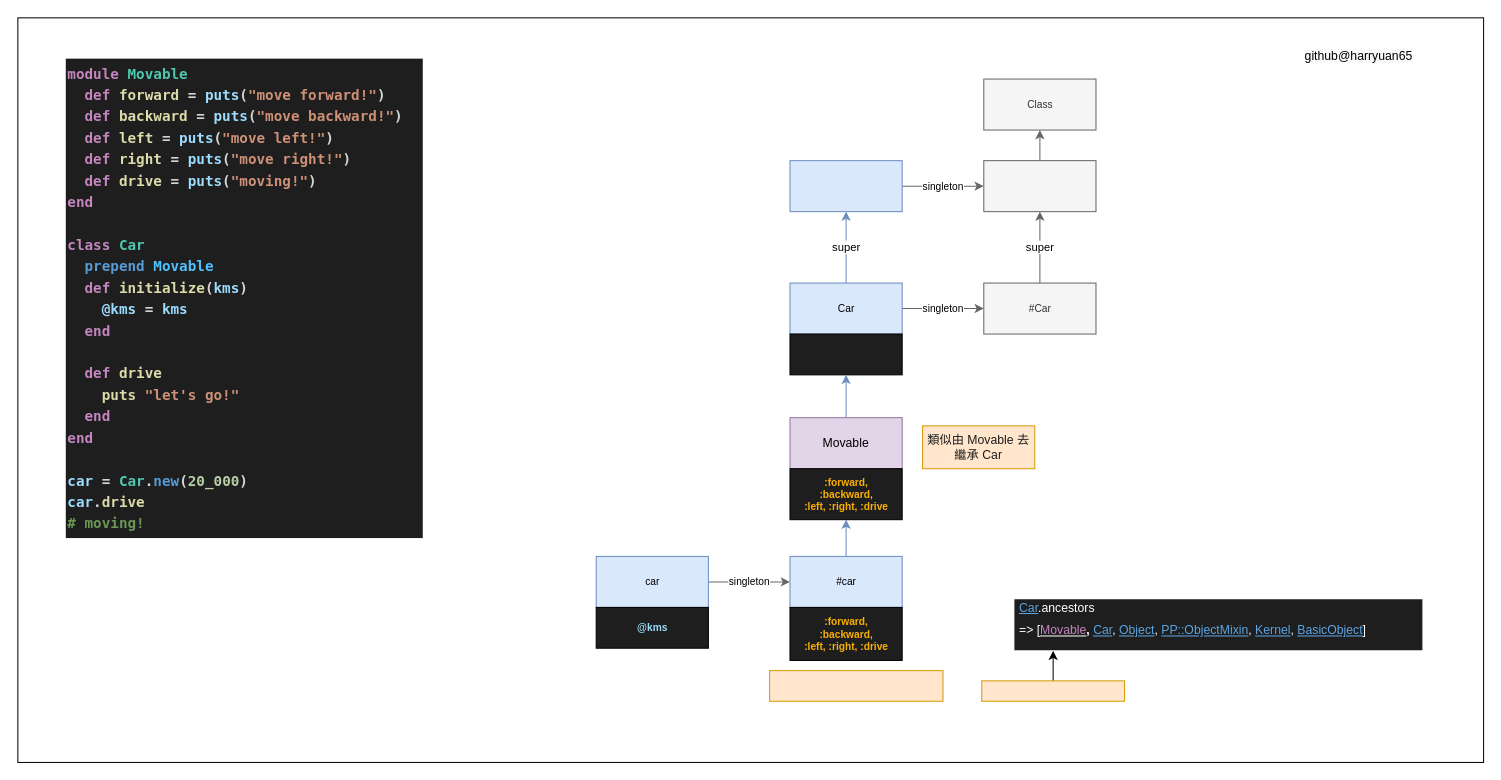
Image size: 1501x780. Some labels were removed from this diagram. Each missing label, with the centre of its shape:
# Object: the point at 1039,186
:drive: the point at 845,354
Movable 繼承鏈下方。: the point at 1053,690
Movable 被放在鏈最下面，所以 會複寫 drive。: the point at 856,685
Object: the point at 845,186
